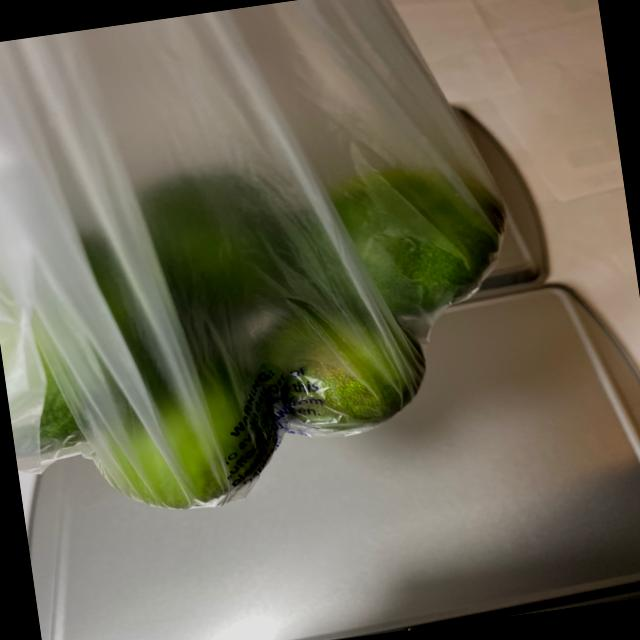lemon: (0, 139, 541, 526)
